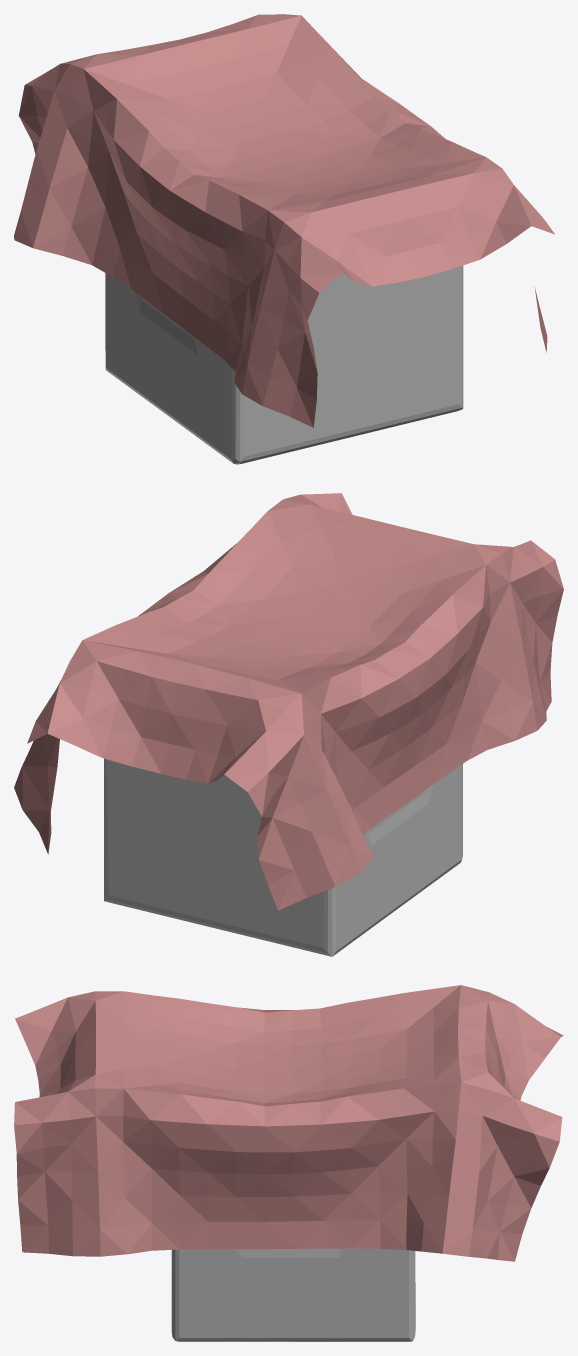
Rendered from level_0.glb.
The picture shows the model from 3 angles, top to bottom: view 1: azimuth 30°, elevation 25°; view 2: azimuth 150°, elevation 25°; view 3: azimuth 270°, elevation 25°; orthographic projection. The views are drawn at different scales.
Visible parts, largest first — view 1: world, object.obj; view 2: world, object.obj; view 3: world, object.obj.
Part boxes in pixels (x1,y1,x2,y2): world: [14, 14, 554, 427]; object.obj: [105, 265, 463, 464]; world: [14, 493, 563, 910]; object.obj: [104, 758, 462, 956]; world: [14, 985, 563, 1261]; object.obj: [171, 1248, 415, 1341].
Bounding box in the file's own units: 0.3878 × 0.2977 × 0.5704.
